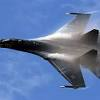maybay_muctieu: (1, 13, 100, 91)
